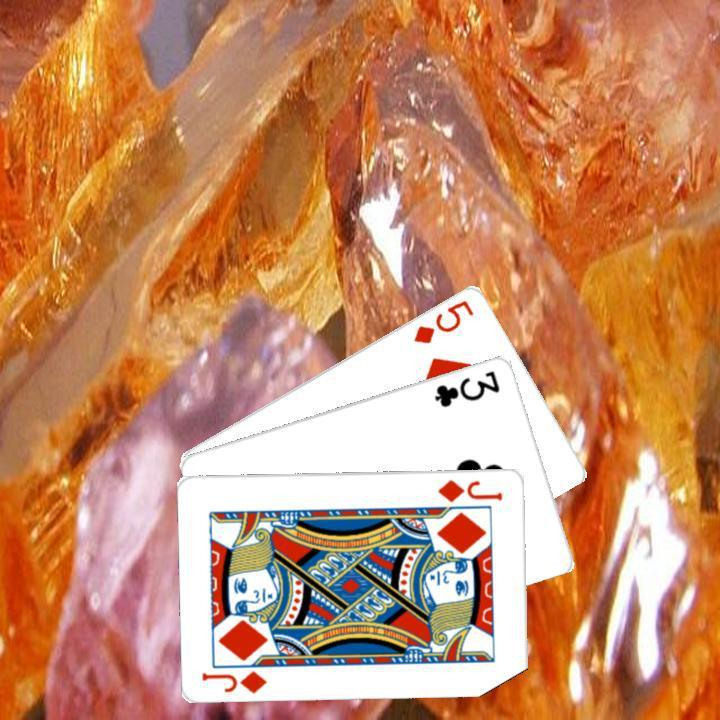3: (430, 365, 503, 409)
5: (409, 295, 476, 345)
J: (433, 474, 504, 504), (198, 666, 269, 695)
